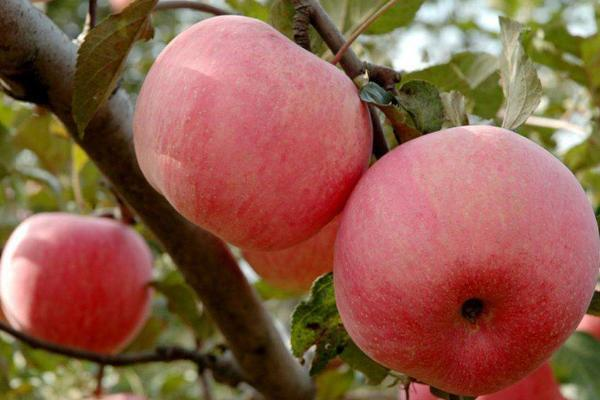apple: (333, 123, 600, 397), (131, 13, 371, 250), (1, 212, 152, 358)
